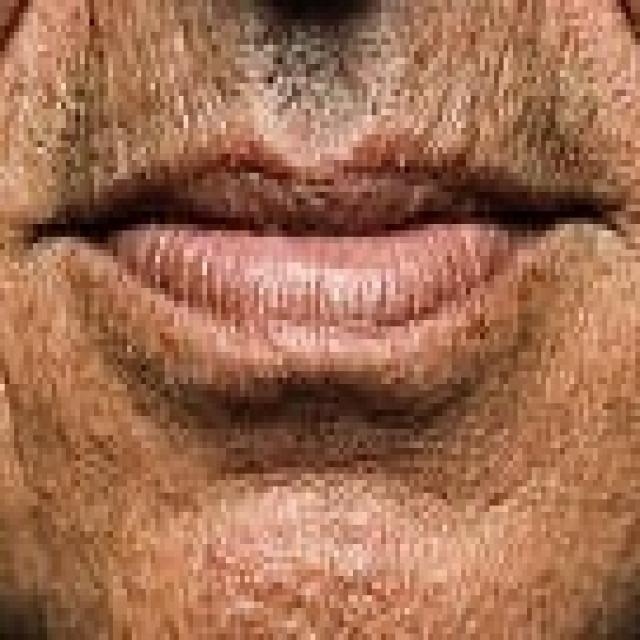closed-mouth: (23, 134, 626, 338)
